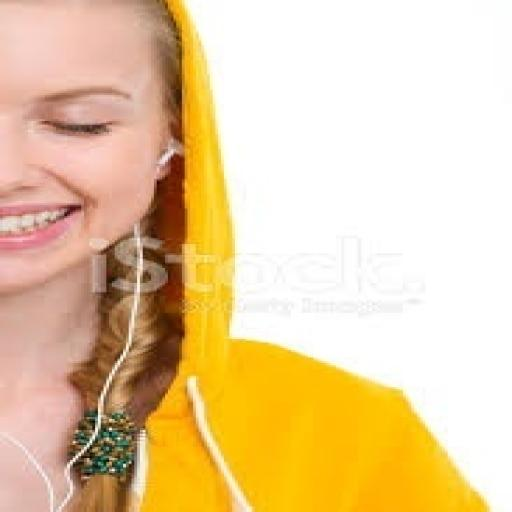listening_to_music: (0, 0, 495, 510)
